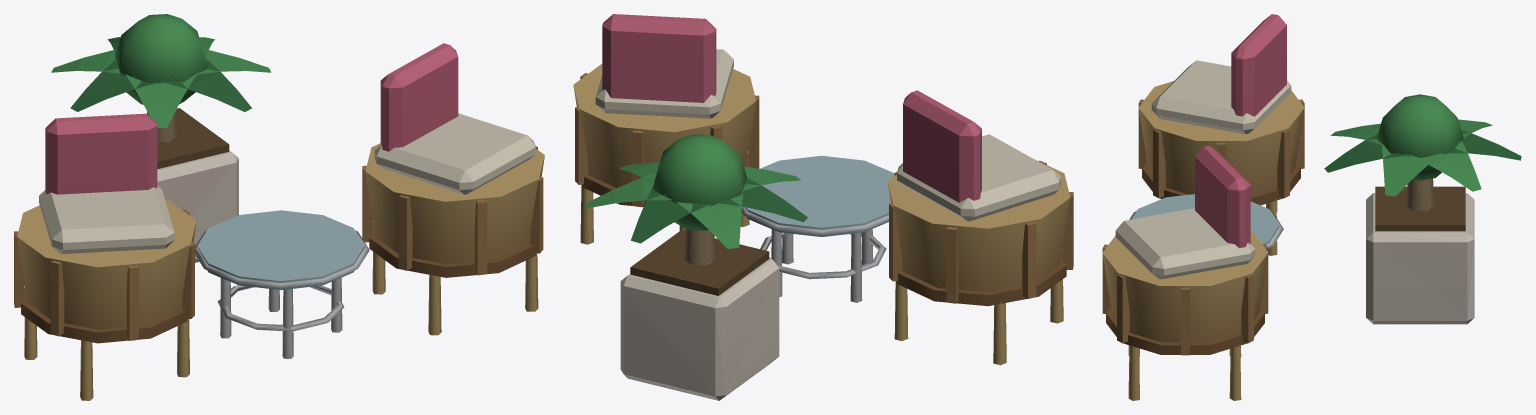
The model's file is lobby_rattan_seating.glb.
3 renders of one model, left to right at view 1: azimuth 30°, elevation 25°; view 2: azimuth 150°, elevation 25°; view 3: azimuth 270°, elevation 25°, orthographic. The views are drawn at different scales.
Visible parts, largest first — view 1: lobby_rattan_seating; view 2: lobby_rattan_seating; view 3: lobby_rattan_seating.
Boxes of the visible parts, x1,y1,x2,y2 form: lobby_rattan_seating: (14,14,544,400); lobby_rattan_seating: (573,14,1073,400); lobby_rattan_seating: (1102,14,1521,400).
Bounding box in the file's own units: 2.8 × 1.27 × 2.32.
